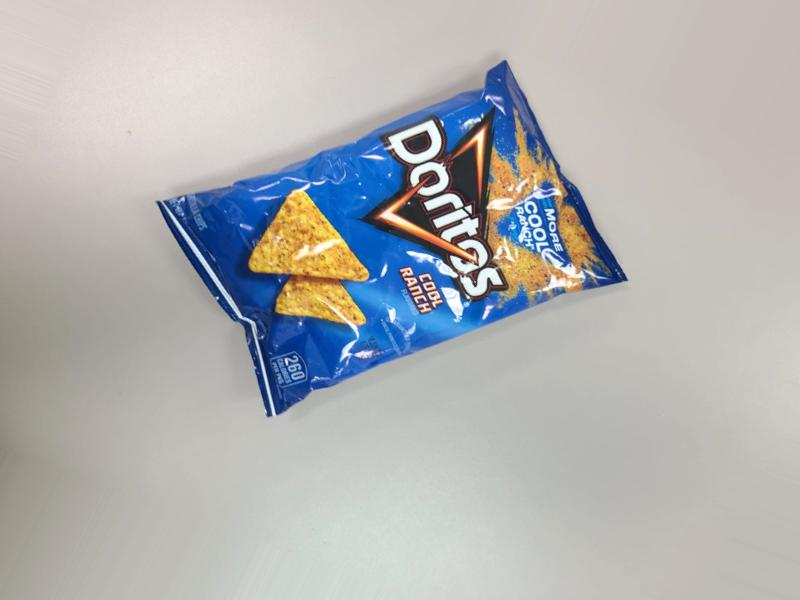doritos: (153, 42, 622, 438)
